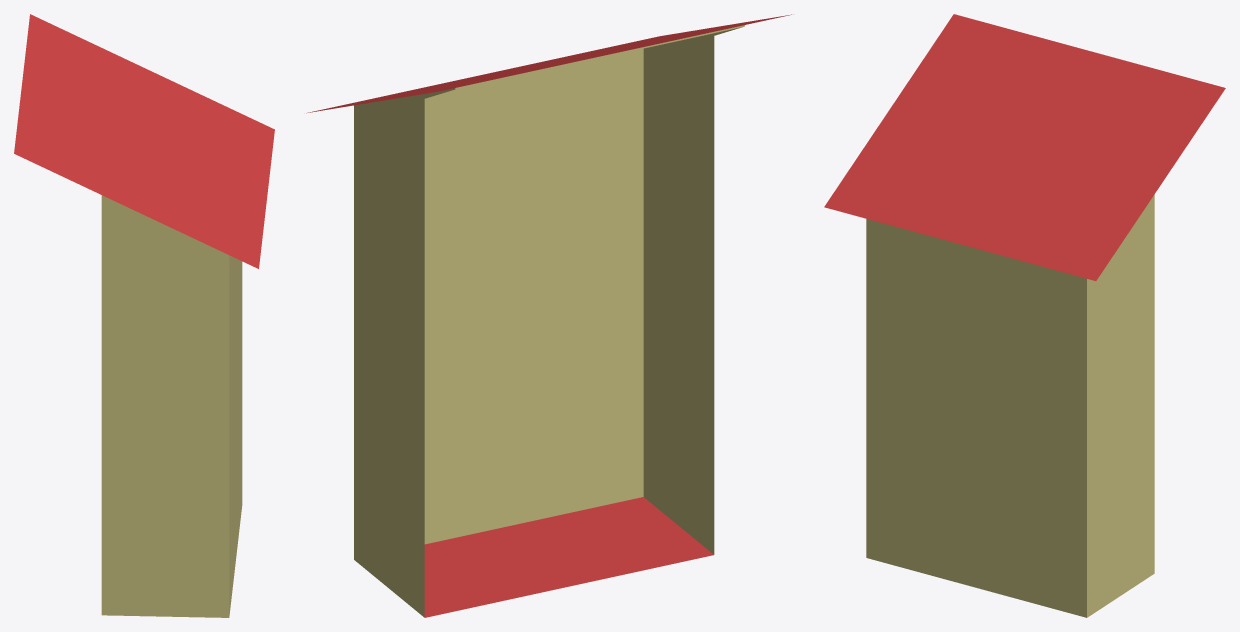
3 renders of one model, left to right at view 1: azimuth 30°, elevation 25°; view 2: azimuth 150°, elevation 25°; view 3: azimuth 270°, elevation 25°, orthographic. The views are drawn at different scales.
Size of the model in its own units: 9.27 by 9.89 by 12.56.
